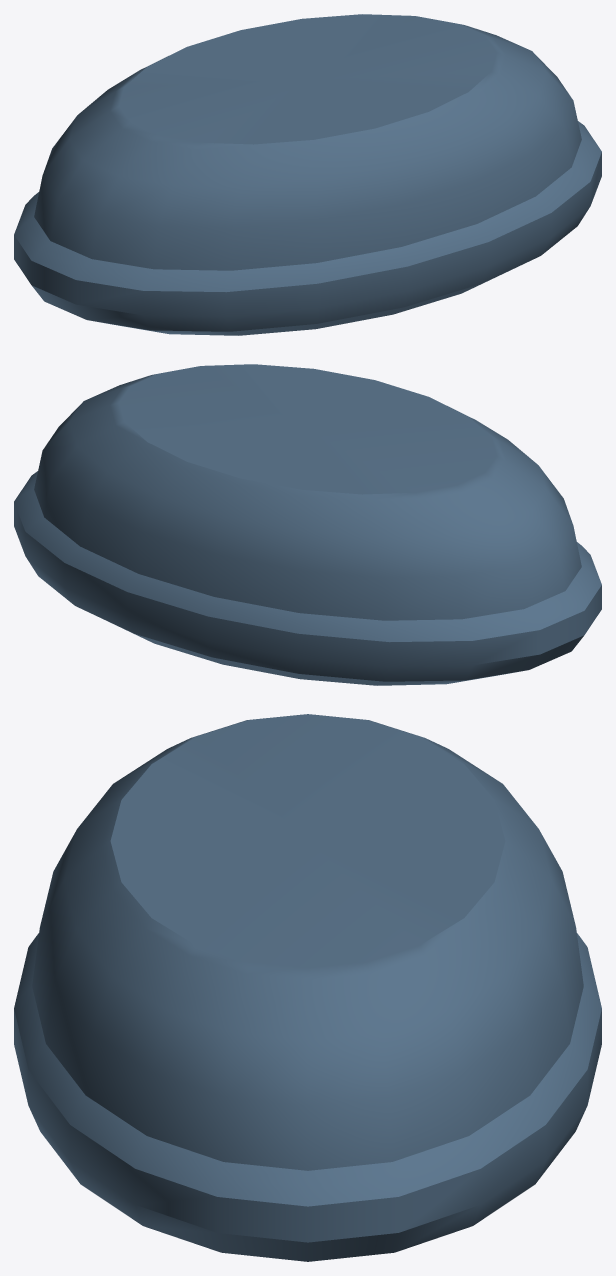
The model's file is HoverShip1.fbx.
3 renders of one model, top to bottom at view 1: azimuth 30°, elevation 25°; view 2: azimuth 150°, elevation 25°; view 3: azimuth 270°, elevation 25°, orthographic. The views are drawn at different scales.
Visible parts, largest first — view 1: pCylinder13; view 2: pCylinder13; view 3: pCylinder13.
Boxes of the visible parts, <box> form: pCylinder13: <box>14,14,601,335</box>; pCylinder13: <box>14,364,601,685</box>; pCylinder13: <box>14,714,601,1261</box>.
Size of the model in its own units: 12.24 by 3.66 by 7.67.
